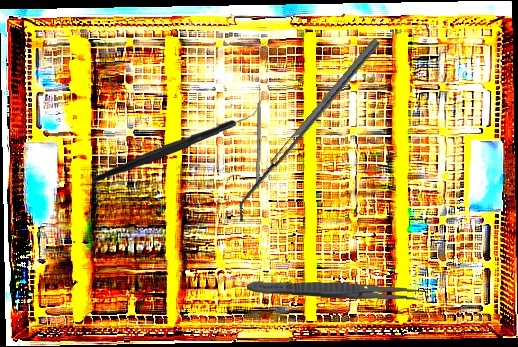Chopper: (89, 101, 264, 184)
Dressing Forceps: (246, 277, 424, 303)
Pusher: (256, 77, 262, 187)
Spatula Surgical: (228, 38, 387, 223)
